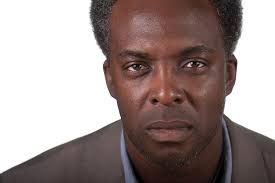black_male: (75, 1, 256, 166)
